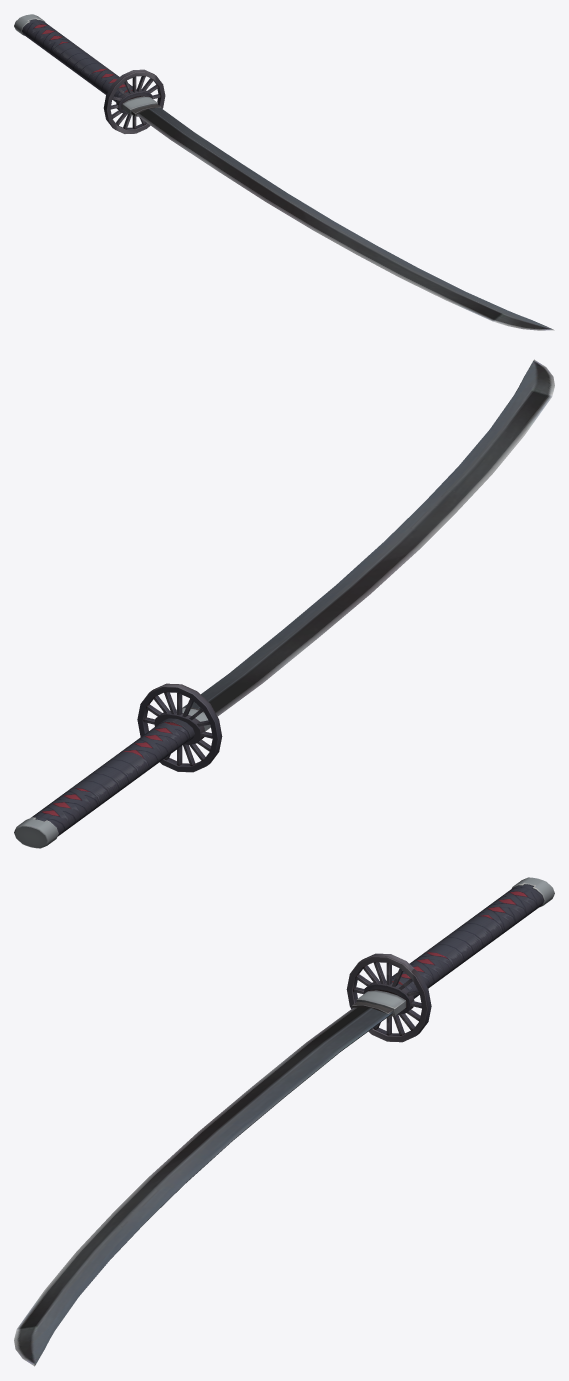
Rendered from TanjiroWeapon.fbx.
3 renders of one model, top to bottom at view 1: azimuth 30°, elevation 25°; view 2: azimuth 150°, elevation 25°; view 3: azimuth 330°, elevation 25°, orthographic. The views are drawn at different scales.
Visible parts, largest first — view 1: Geo_Wpn_01_swk_002; view 2: Geo_Wpn_01_swk_002; view 3: Geo_Wpn_01_swk_002.
Part boxes in pixels (<box>): Geo_Wpn_01_swk_002: <box>14,14,554,330</box>; Geo_Wpn_01_swk_002: <box>14,359,554,848</box>; Geo_Wpn_01_swk_002: <box>14,877,554,1366</box>.
Size of the model in its own units: 16.41 by 8.73 by 115.
